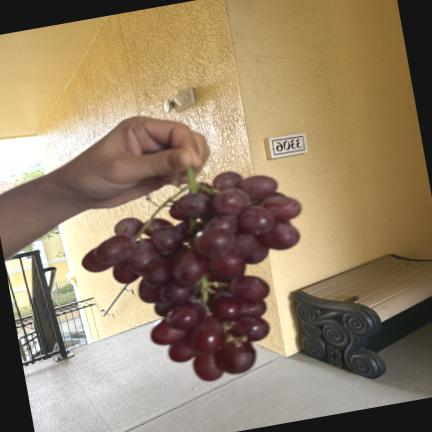grape_cluster: (82, 170, 300, 380)
